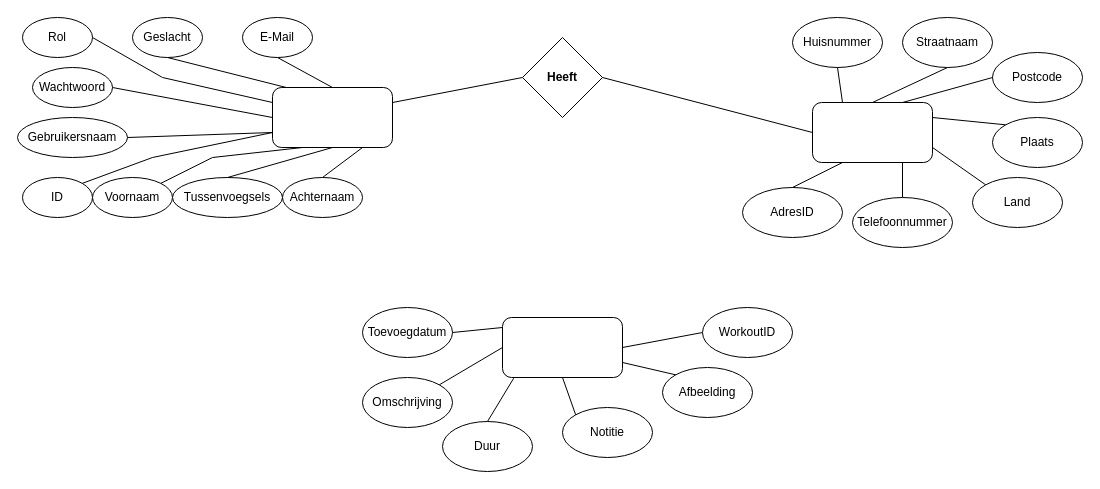
The diagram is 1100 pixels wide and 489 high, and some of its shapes have lost their labels. The centre of each missing label's shape, as x and y in pixels:
"Adres" goes at (872,132).
"Gebruiker" goes at (332,117).
"Workout" goes at (562,347).
